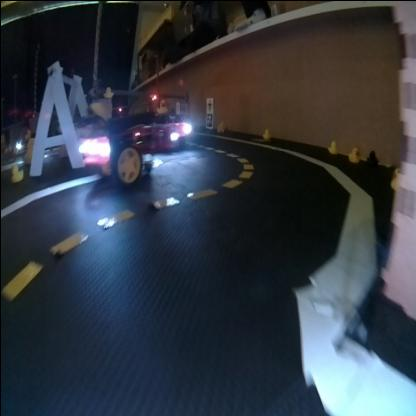Duckie: (390, 168, 400, 186), (10, 165, 22, 179), (156, 99, 166, 113), (349, 146, 358, 160), (327, 140, 337, 152), (102, 87, 112, 97), (215, 124, 225, 132), (262, 128, 268, 136)
Duckiebot: (82, 122, 151, 184)
Intersection sign: (205, 98, 211, 110)
QR code: (204, 110, 210, 126)
